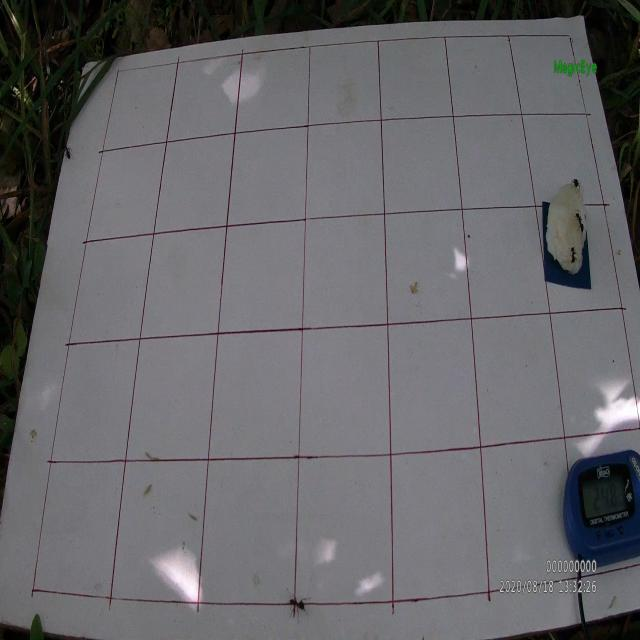Ant: (285, 586, 312, 619), (574, 209, 584, 241), (63, 142, 74, 163), (568, 242, 578, 264)
